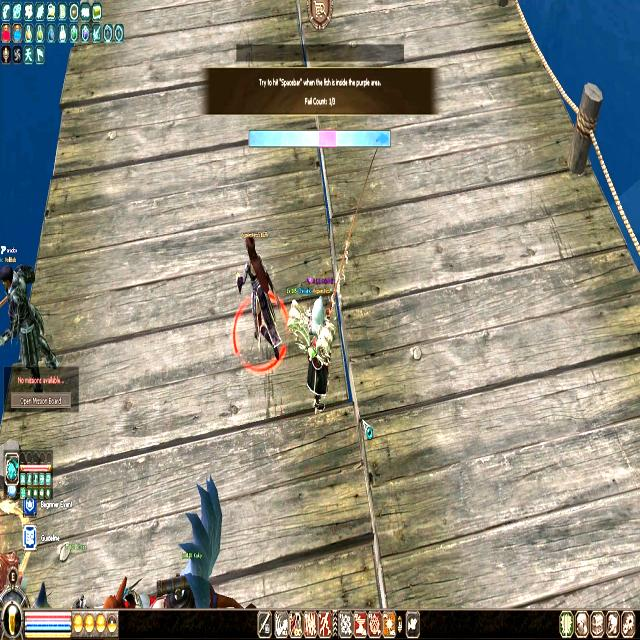fishes: (375, 130, 389, 148)
